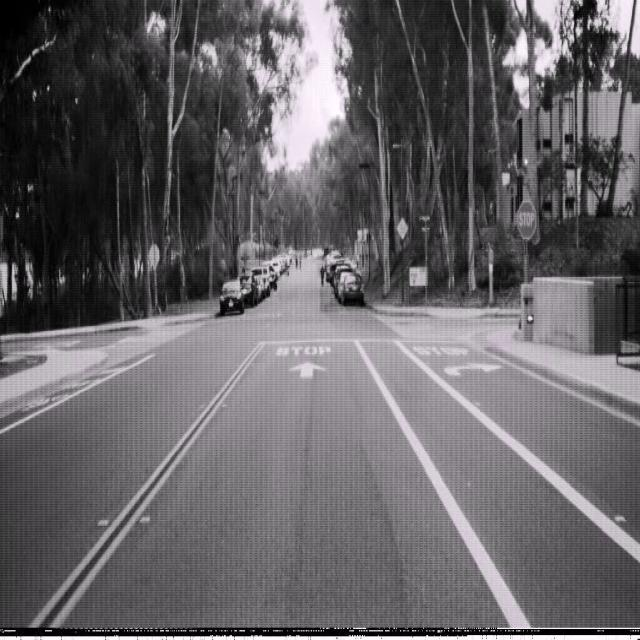stop_sign: (516, 199, 537, 240)
